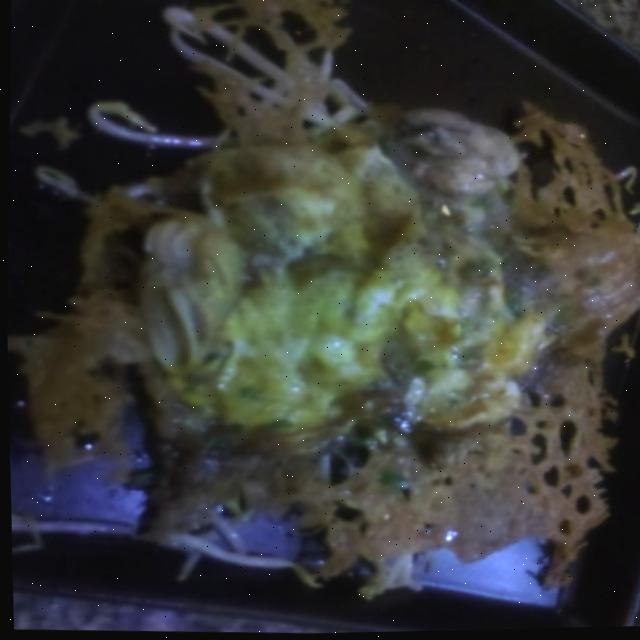炸货点心: (20, 8, 640, 640)
蛋糕甜品: (20, 8, 640, 640)
